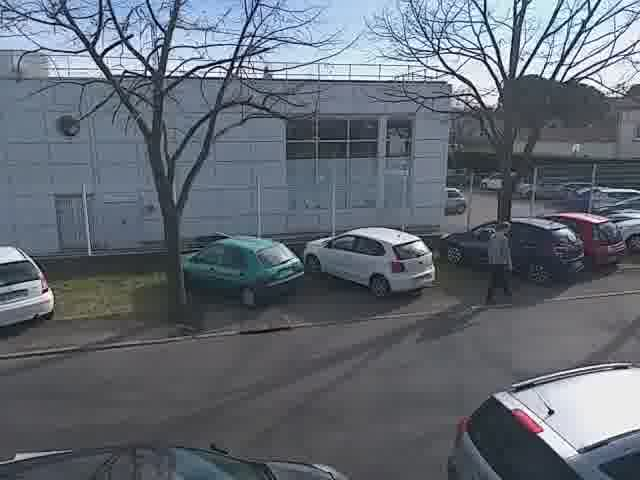persona: (482, 214, 521, 307)
